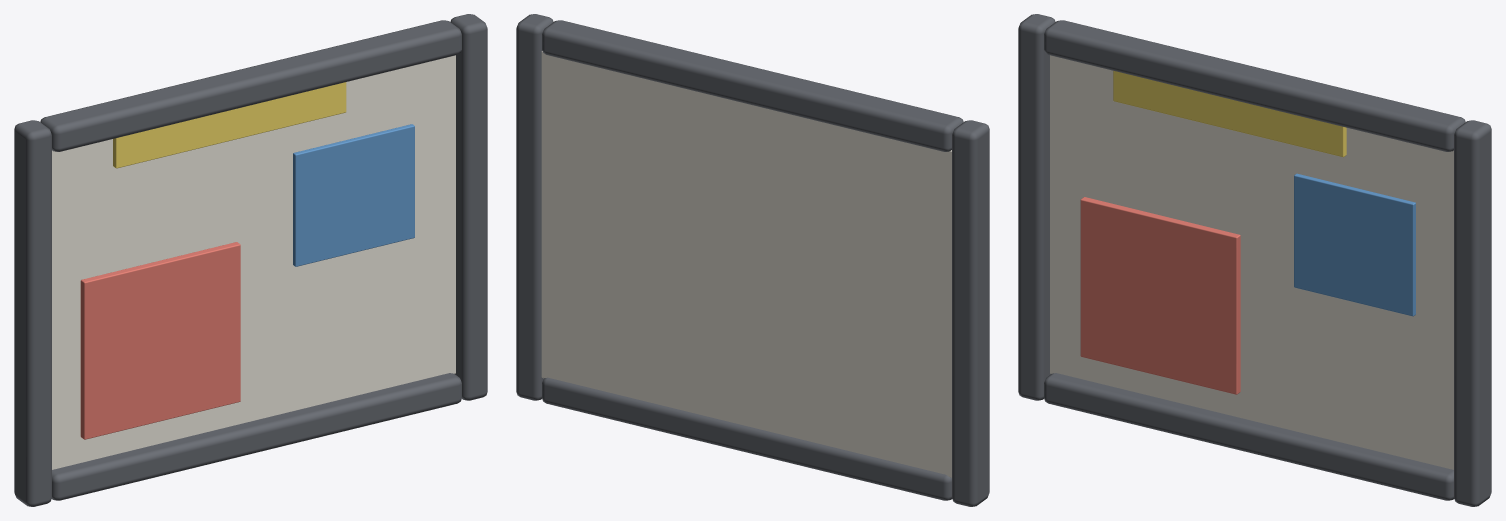
3 views of the same model, side by side, from view 1: azimuth 30°, elevation 25°; view 2: azimuth 150°, elevation 25°; view 3: azimuth 330°, elevation 25° (orthographic).
Visible parts, largest first — view 1: framed-canvas; view 2: framed-canvas; view 3: framed-canvas.
Boxes of the visible parts, x1,y1,x2,y2 form: framed-canvas: [14, 14, 487, 506]; framed-canvas: [516, 14, 989, 506]; framed-canvas: [1018, 14, 1491, 506].
Size of the model in its own units: 0.9 by 0.7 by 0.06.
